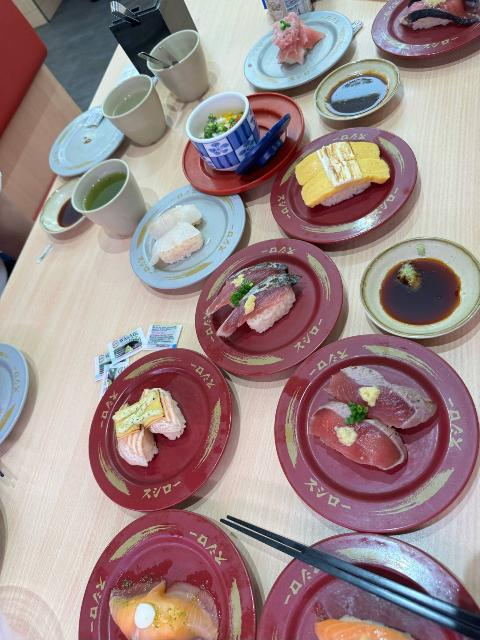janred: (279, 365, 480, 521), (272, 536, 475, 640), (83, 530, 258, 640), (265, 142, 424, 243), (189, 243, 332, 355), (113, 389, 231, 489), (191, 109, 307, 204), (368, 0, 480, 60)
janwhite: (135, 203, 244, 285), (0, 333, 65, 463), (225, 18, 349, 81), (58, 109, 135, 153)
